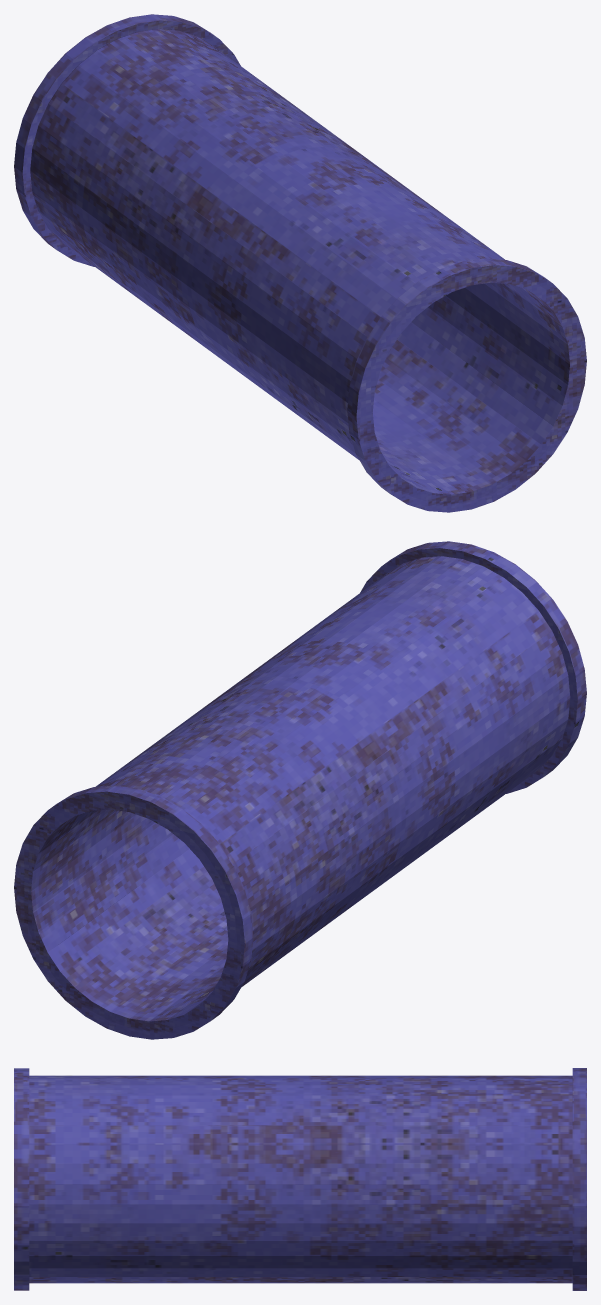
File: StraightPipeFinal.fbx
3 views of the same model, one above another, from view 1: azimuth 30°, elevation 25°; view 2: azimuth 150°, elevation 25°; view 3: azimuth 270°, elevation 25° (orthographic). The views are drawn at different scales.
Parts seen in each view (by area): view 1: Cylinder; view 2: Cylinder; view 3: Cylinder.
Part boxes in pixels (box(x1,y1,x2,y2)): Cylinder: box(14, 14, 586, 512); Cylinder: box(14, 541, 586, 1039); Cylinder: box(14, 1068, 586, 1290).
Size of the model in its own units: 234 by 234 by 601.
